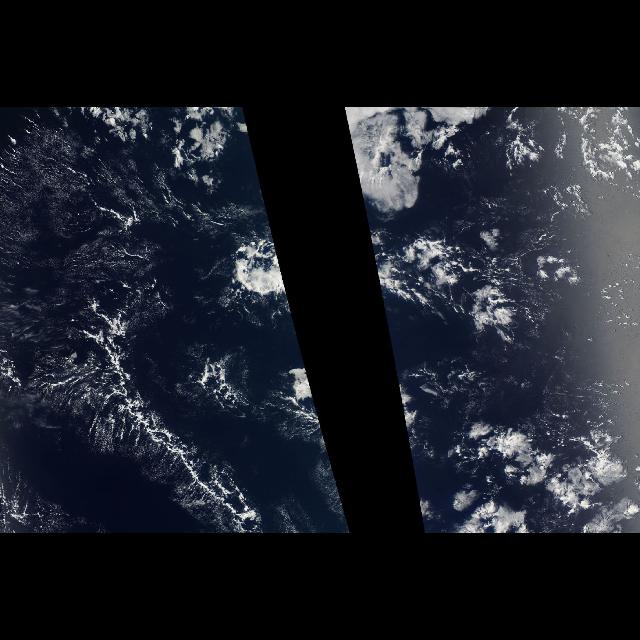Fish: (28, 228, 302, 534), (368, 228, 530, 346)
Flower: (450, 286, 640, 534)
Sugar: (0, 120, 194, 378)
